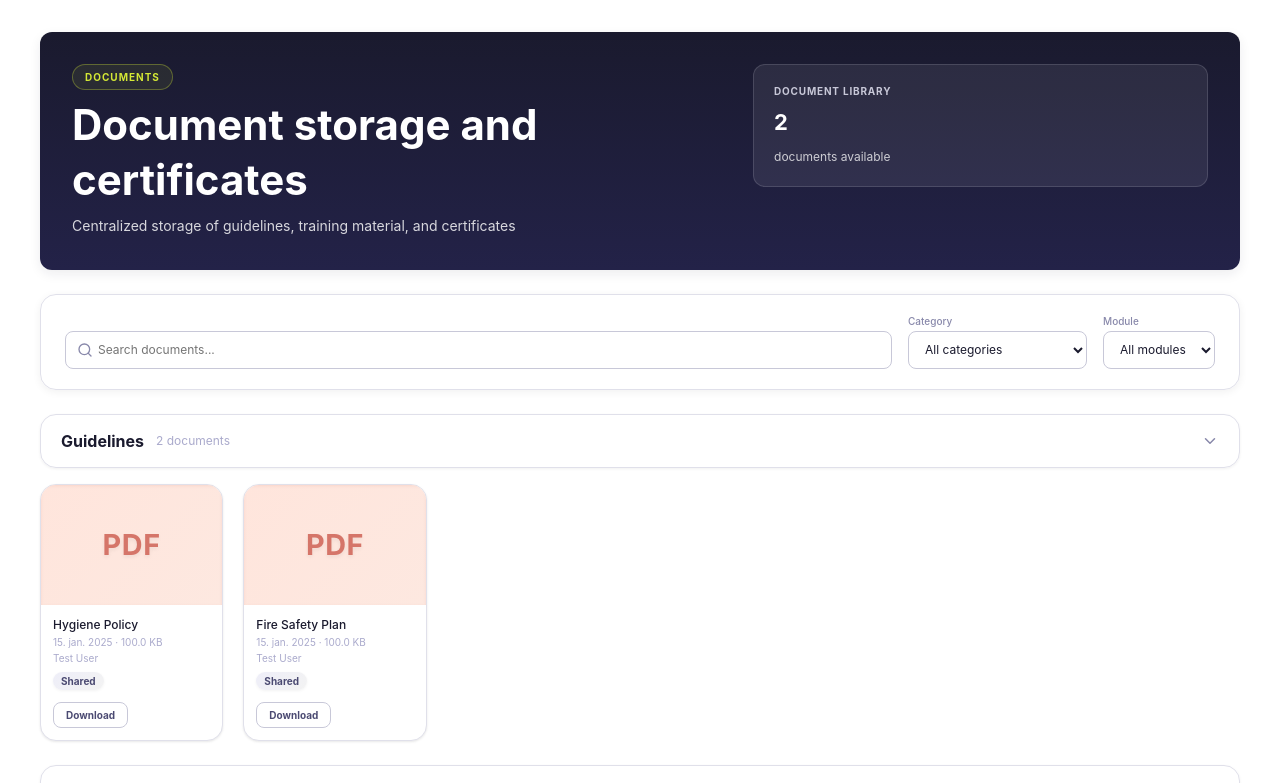
Test: DocumentsView › filtering › filters documents by search query on name
Type "hygiene" into the search field with class "search-input" at (478,350), box [65,331,892,369]
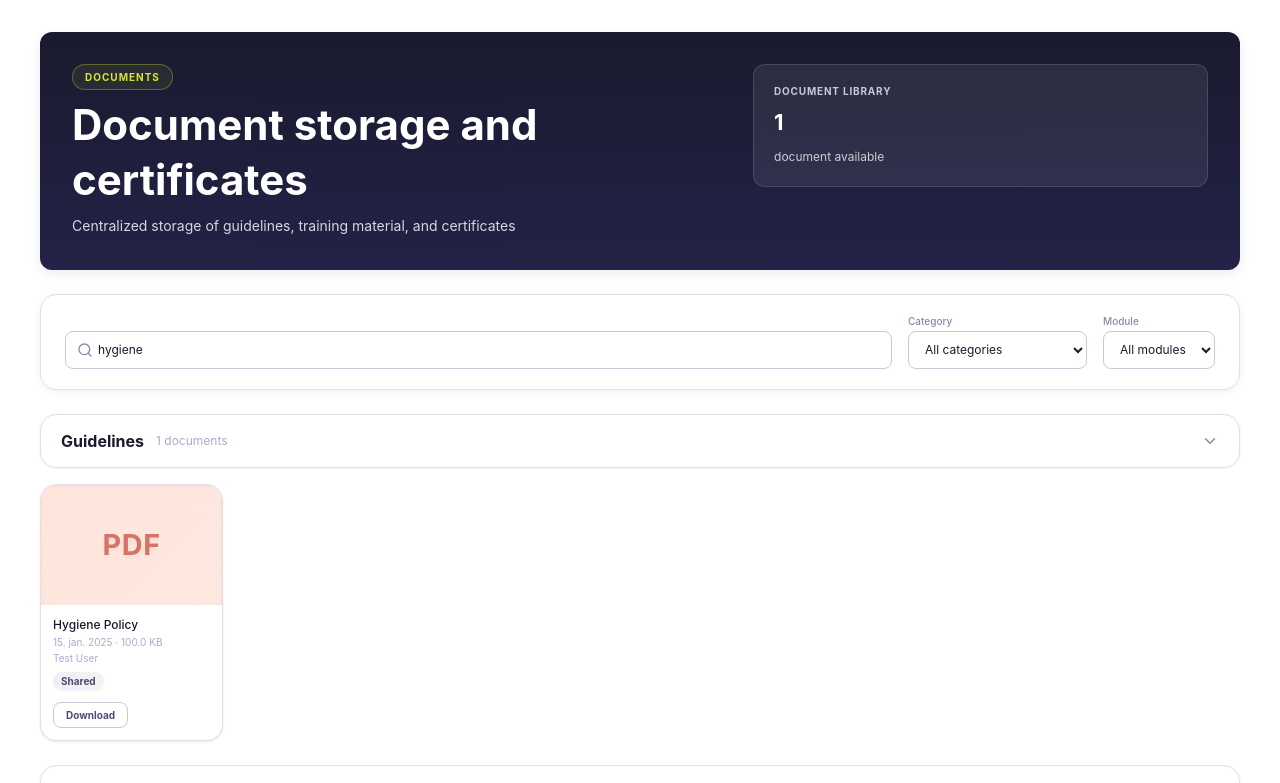
Expected: the text "Hygiene Policy" is shown, [53,617,138,632]
Result: the text "Fire Safety Plan" is gone
